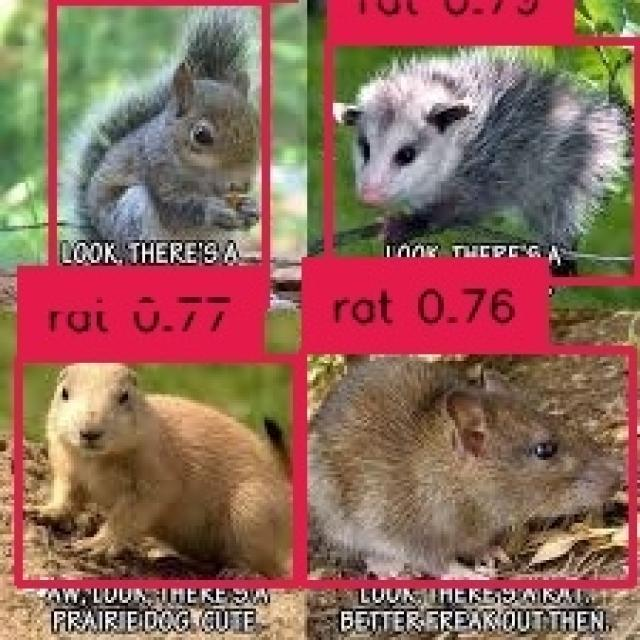rat: (298, 346, 628, 580), (324, 37, 634, 277), (48, 0, 262, 303), (14, 354, 293, 580)
